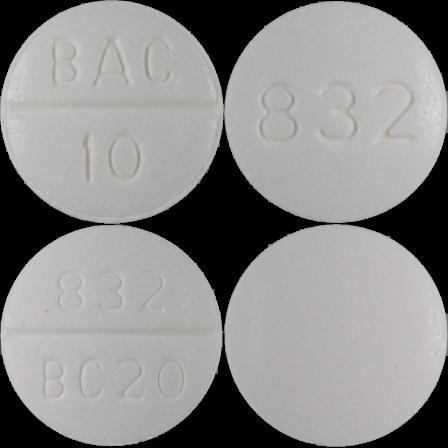0832-1024: (0, 0, 224, 224)
